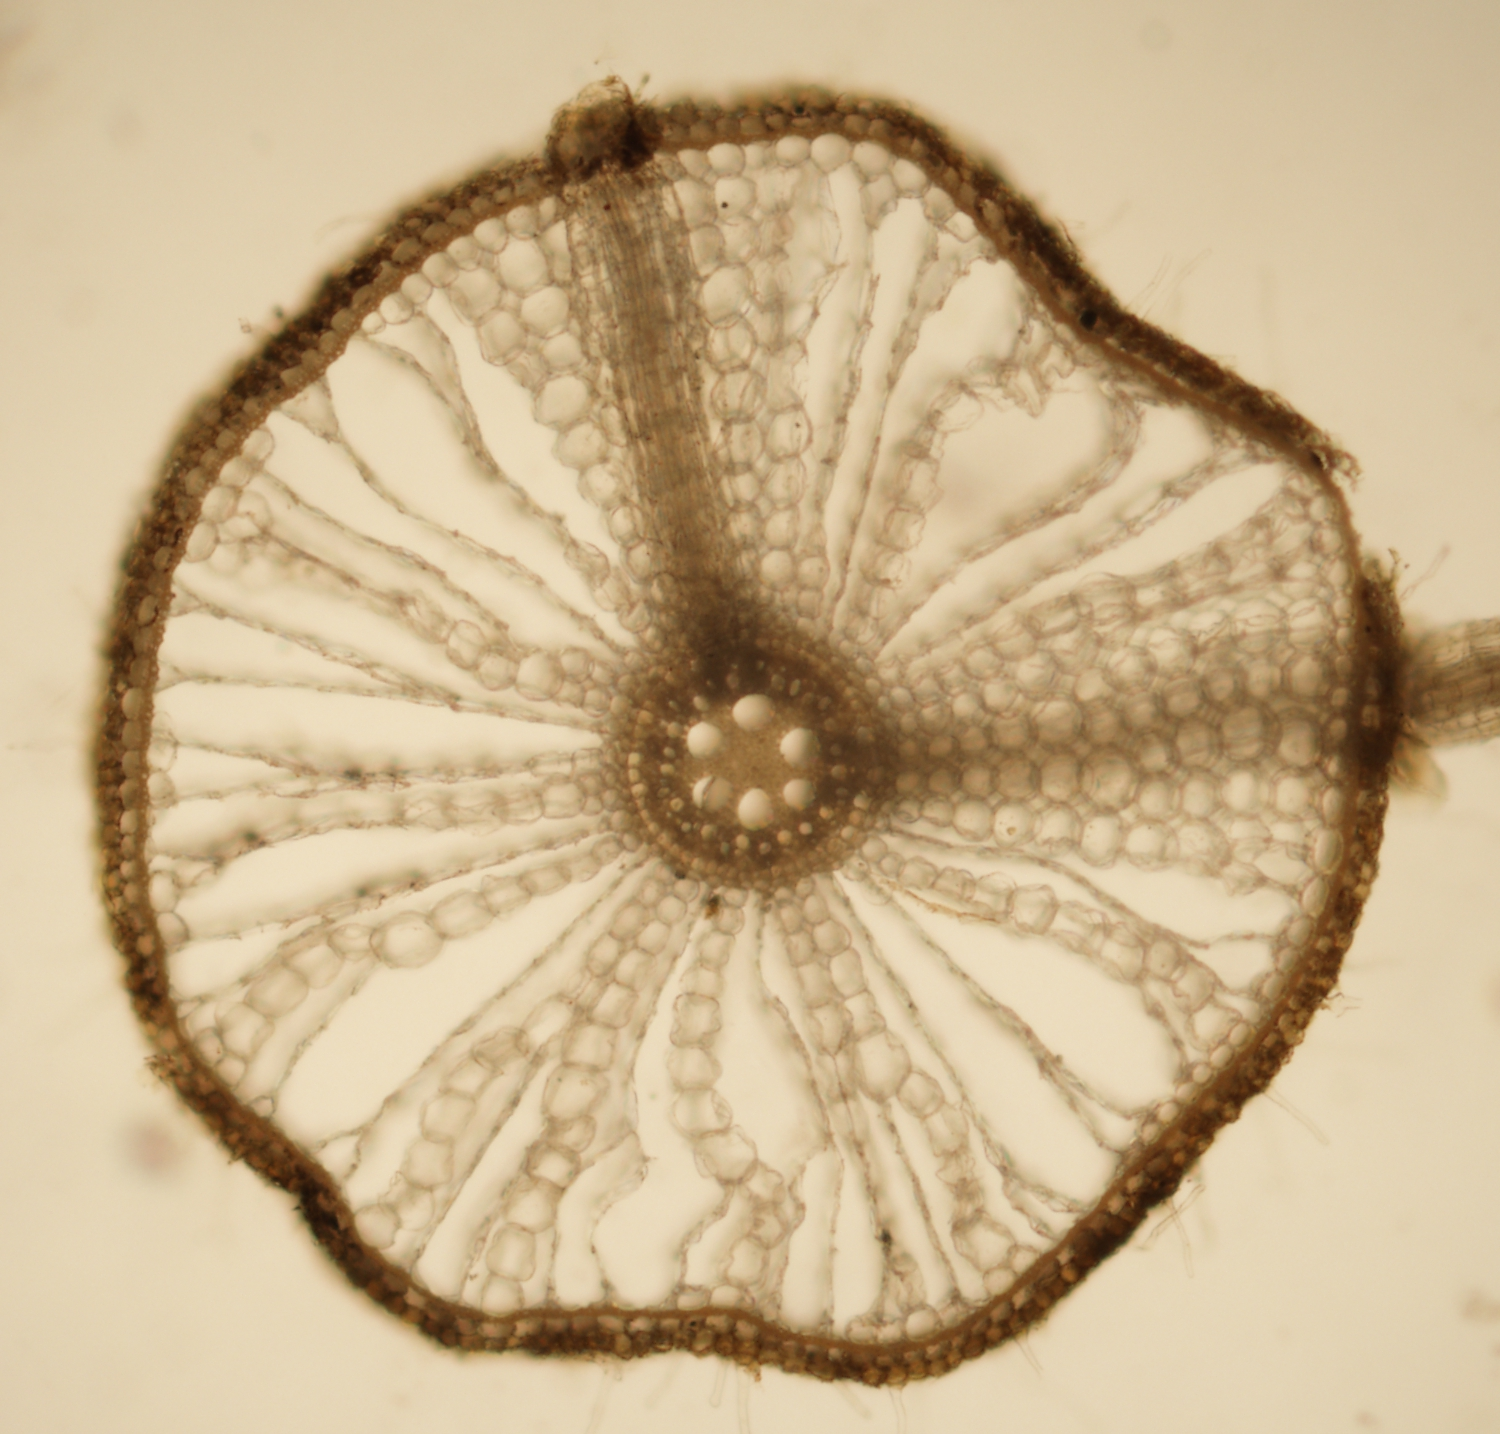lm: (779, 726, 822, 771), (733, 694, 777, 731), (738, 787, 775, 830), (686, 720, 723, 761), (692, 775, 734, 811), (783, 777, 816, 810)
